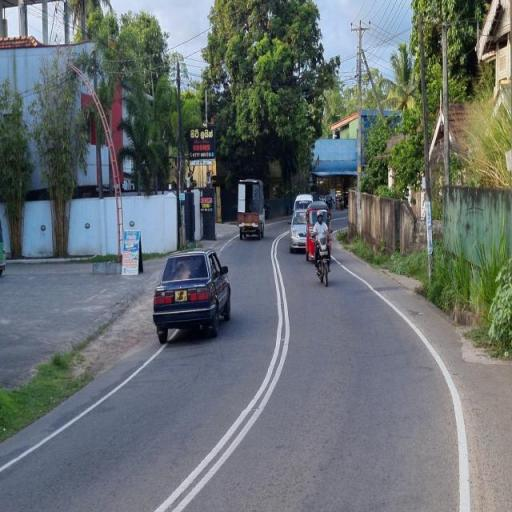double_white_line: (152, 230, 295, 512), (0, 334, 166, 472)
